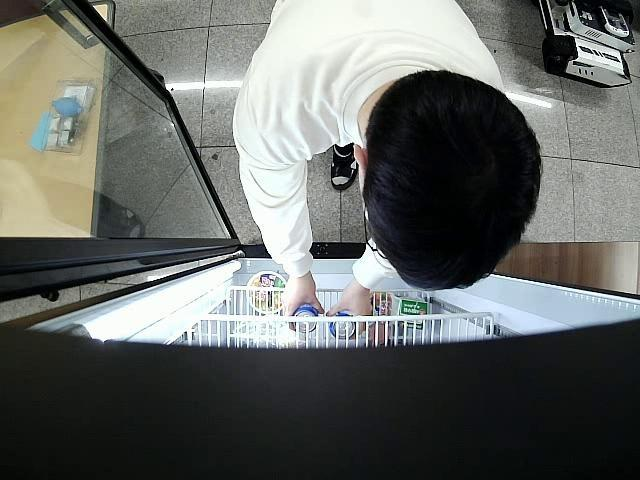13_pocariSweat: (330, 311, 358, 340), (290, 304, 317, 332)
